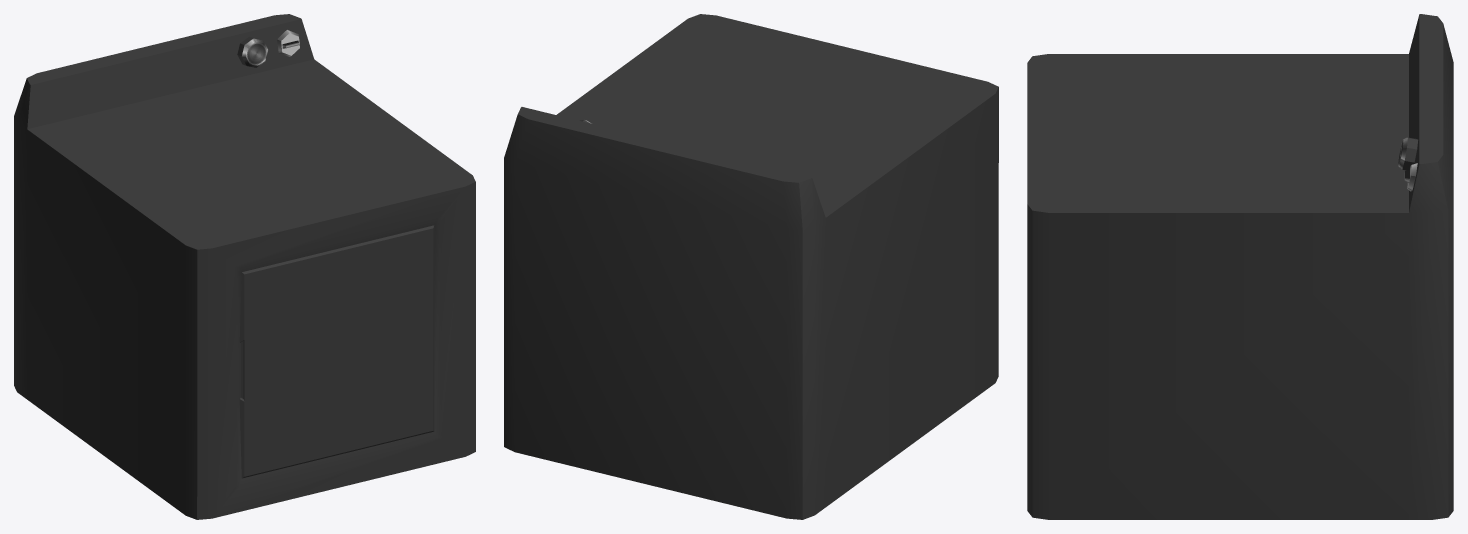
Rendered from Dryer_06.FBX.
3 views of the same model, side by side, from view 1: azimuth 30°, elevation 25°; view 2: azimuth 150°, elevation 25°; view 3: azimuth 270°, elevation 25° (orthographic). The views are drawn at different scales.
Parts seen in each view (by area): view 1: Dryer; view 2: Dryer; view 3: Dryer.
Part boxes in pixels (x1,y1,x2,y2): Dryer: (14,14,475,519); Dryer: (504,14,998,519); Dryer: (1027,14,1453,519).
Bounding box in the file's own units: 150 × 155 × 170.
